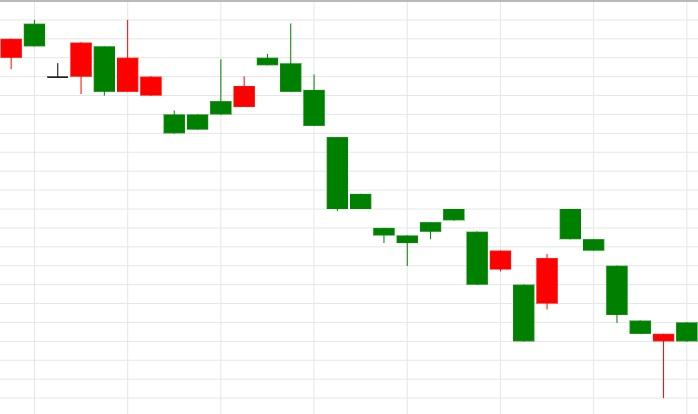three_black_crows_fall: (162, 23, 326, 134), (512, 208, 629, 342)
